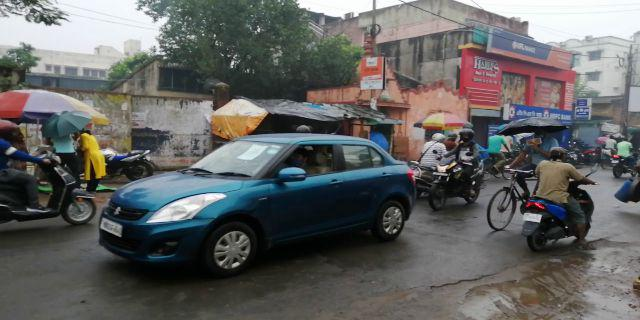Car: (93, 133, 419, 285)
Motorbike: (1, 128, 98, 235), (517, 151, 600, 251), (428, 137, 487, 206)
